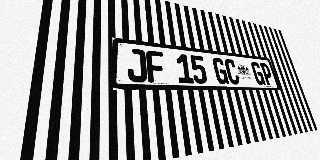1: (175, 53, 194, 83)
5: (190, 55, 208, 84)
C: (224, 59, 241, 85)
F: (146, 50, 166, 83)
G: (212, 57, 229, 84), (250, 61, 266, 85)
J: (126, 48, 147, 82)
P: (259, 62, 274, 85)
